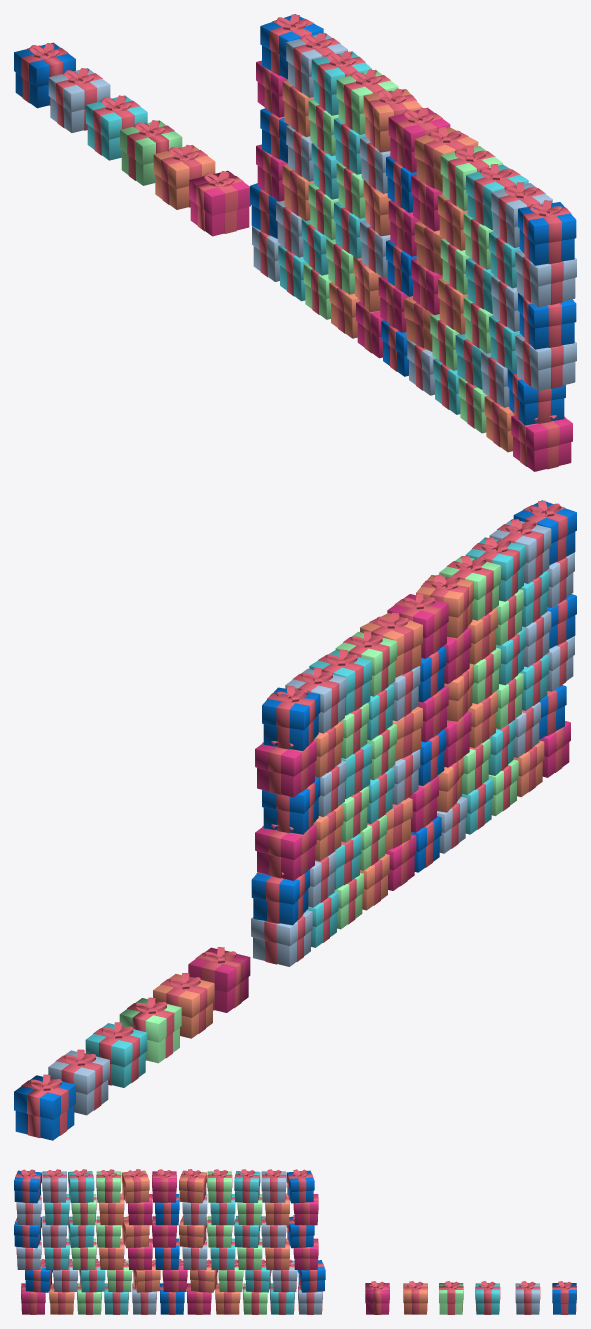
File: Presents.fbx
3 renders of one model, top to bottom at view 1: azimuth 30°, elevation 25°; view 2: azimuth 150°, elevation 25°; view 3: azimuth 270°, elevation 25°, orthographic. The views are drawn at different scales.
Visible parts, largest first — view 1: Cube.007, Cube.015, Cube.006, Cube.011, Cube.010, Cube.002, Cube.003; view 2: Cube.007, Cube.010, Cube.003, Cube.015, Cube.002, Cube.006, Cube.011; view 3: Cube.007, Cube.006, Cube.003, Cube.002, Cube.010, Cube.015, Cube.011.
Boxes of the visible parts, bbox=[...] form: Cube.007: bbox=[250, 14, 576, 471]; Cube.015: bbox=[189, 170, 250, 236]; Cube.006: bbox=[48, 68, 110, 132]; Cube.011: bbox=[153, 145, 215, 209]; Cube.010: bbox=[14, 42, 75, 108]; Cube.002: bbox=[120, 120, 182, 185]; Cube.003: bbox=[86, 95, 147, 160]; Cube.007: bbox=[251, 500, 576, 966]; Cube.010: bbox=[14, 1074, 75, 1140]; Cube.003: bbox=[85, 1022, 147, 1087]; Cube.015: bbox=[188, 947, 250, 1012]; Cube.002: bbox=[119, 997, 181, 1063]; Cube.006: bbox=[48, 1049, 109, 1115]; Cube.011: bbox=[153, 973, 214, 1038]; Cube.007: bbox=[14, 1169, 325, 1314]; Cube.006: bbox=[515, 1281, 540, 1314]; Cube.003: bbox=[475, 1281, 500, 1314]; Cube.002: bbox=[439, 1281, 463, 1314]; Cube.010: bbox=[552, 1281, 576, 1314]; Cube.015: bbox=[365, 1281, 389, 1314]; Cube.011: bbox=[403, 1281, 427, 1314].
Size of the model in its own units: 244 by 1320 by 4893.
